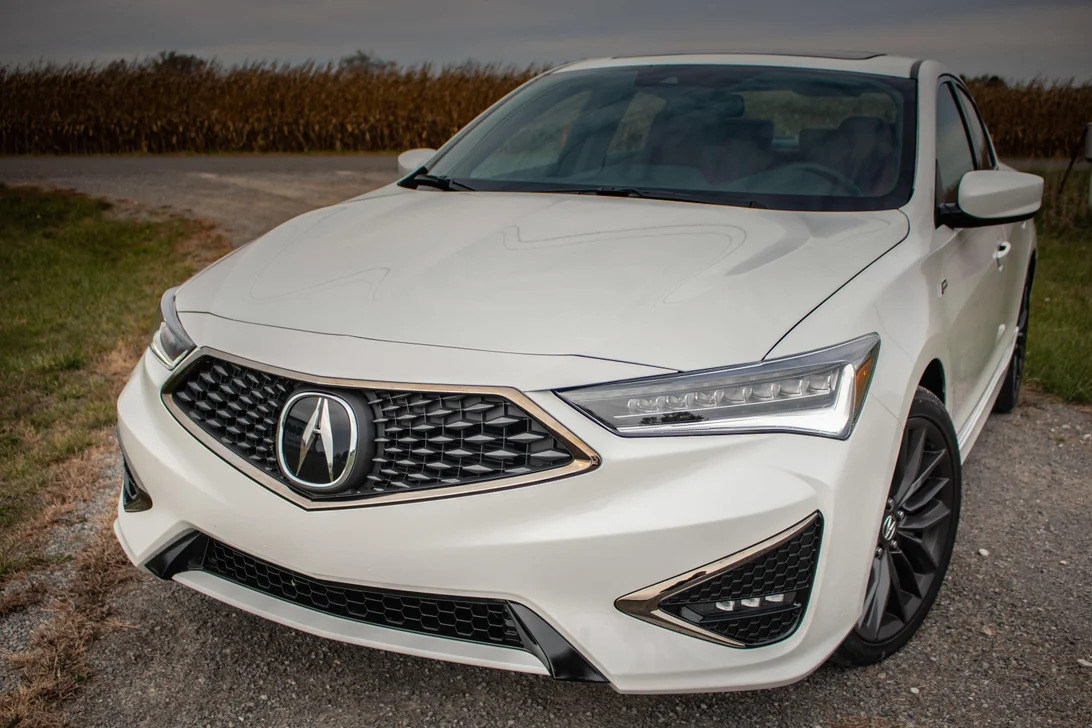Fog Lamp & Scope: (640, 537, 820, 642)
Front: (113, 210, 915, 696)
Front Bumper: (108, 444, 868, 682)
Grill: (178, 364, 563, 487)
Headlight: (590, 345, 885, 434)
